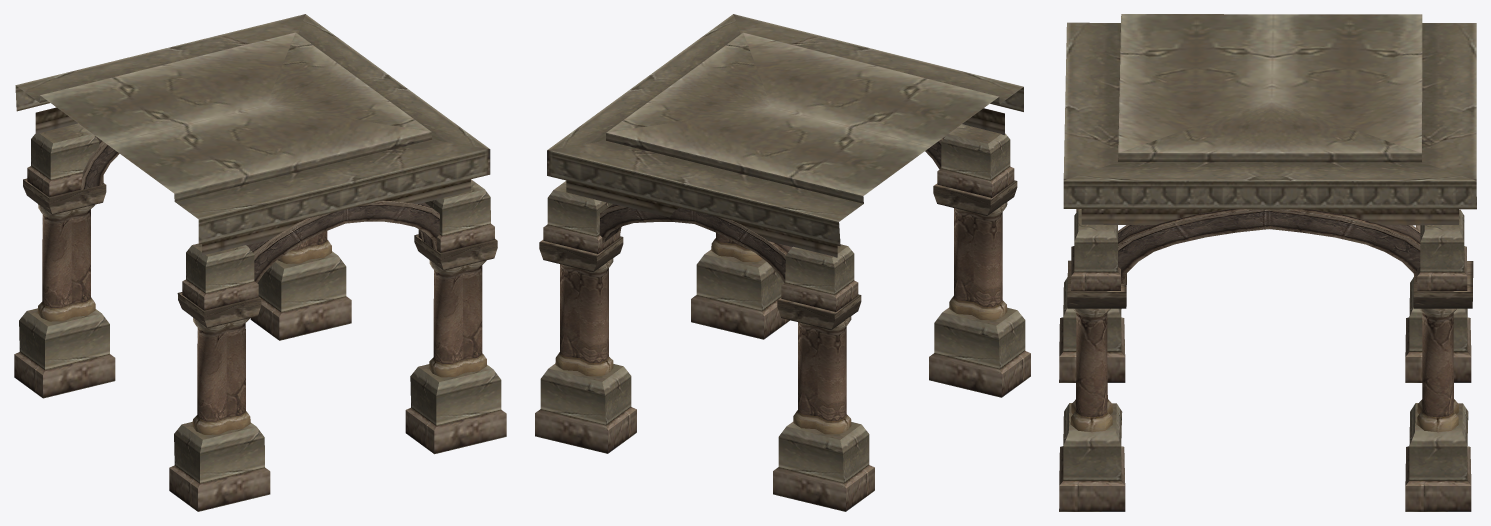
File: dcfx_pzq_01.FBX
The picture shows the model from 3 angles, left to right: view 1: azimuth 30°, elevation 25°; view 2: azimuth 150°, elevation 25°; view 3: azimuth 270°, elevation 25°; orthographic projection. The views are drawn at different scales.
Visible parts, largest first — view 1: dcfx_pzq_01; view 2: dcfx_pzq_01; view 3: dcfx_pzq_01.
Part boxes in pixels (left/top/right/bottom): dcfx_pzq_01: left=14, top=14, right=506, bottom=511; dcfx_pzq_01: left=535, top=14, right=1030, bottom=511; dcfx_pzq_01: left=1059, top=14, right=1476, bottom=511.
Size of the model in its own units: 442 by 407 by 464.
